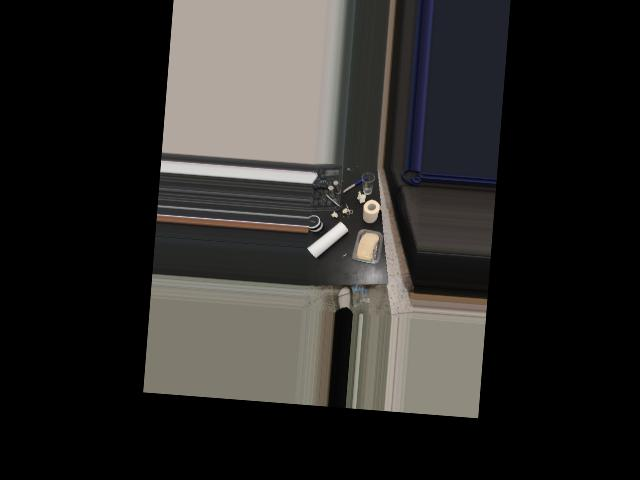cheese: (350, 227, 384, 268)
